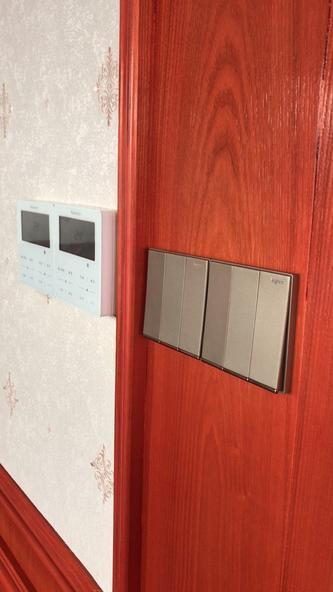switch: (258, 272, 287, 388), (229, 264, 256, 381), (207, 257, 229, 371), (182, 254, 200, 357), (163, 251, 181, 347), (145, 248, 160, 342)
